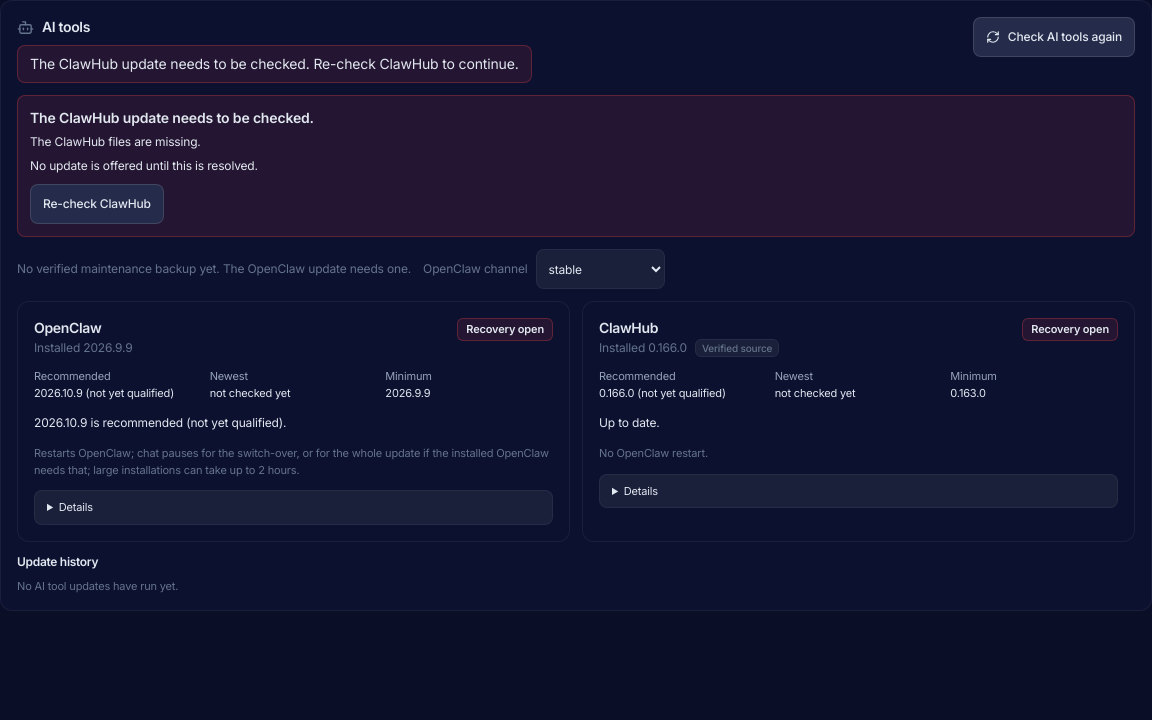
Test case: AI tools panel › another tool's recovery offers its Re-check, started exactly like the card's Re-check
Click the button "Re-check ClawHub": (97,204) [30, 184, 164, 224]
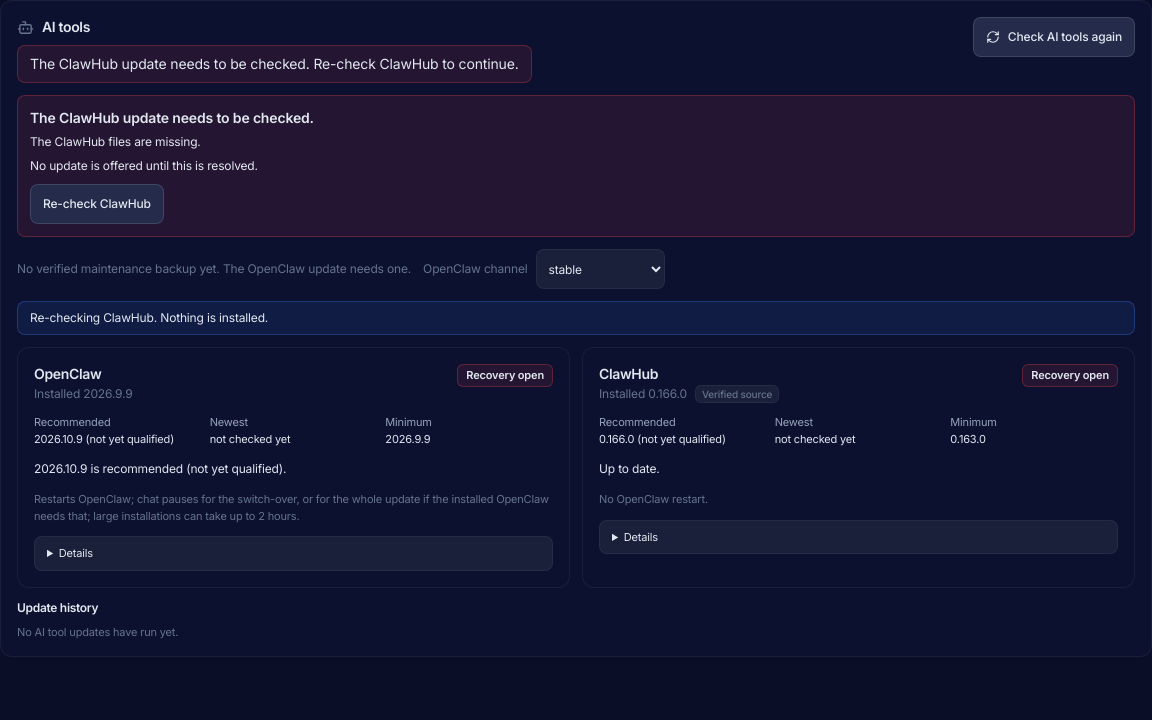
expect the text "Re-checking ClawHub. Nothing is installed." is shown: met, box [17, 301, 1135, 335]
